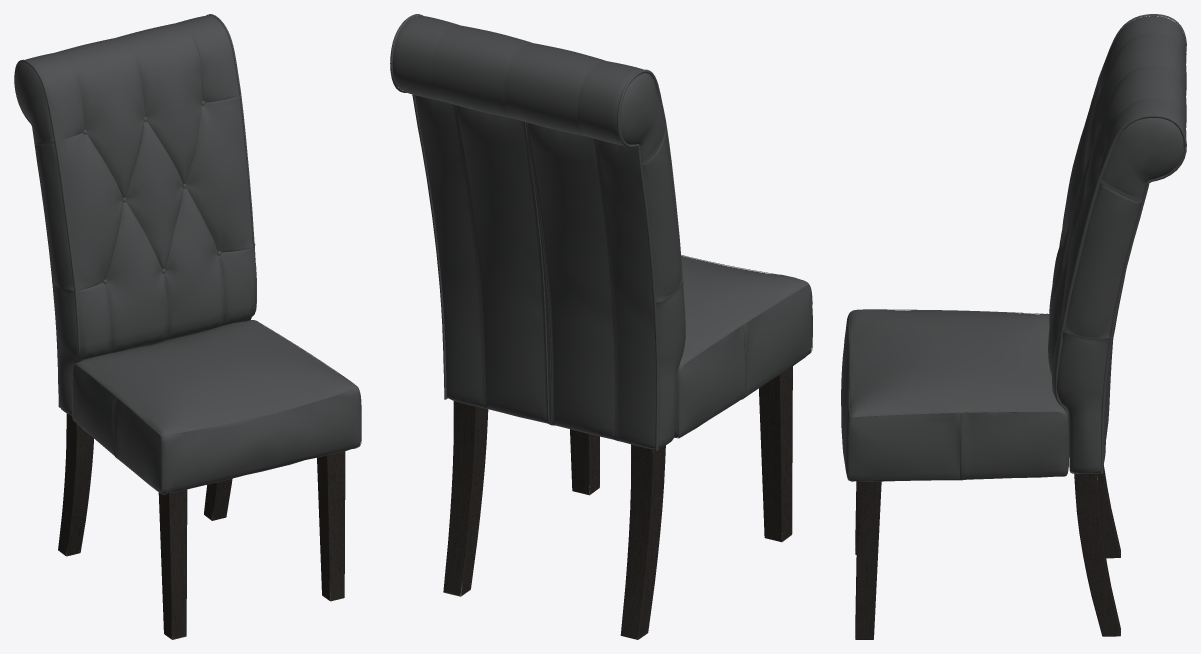
File: graphite.glb
3 renders of one model, left to right at view 1: azimuth 30°, elevation 25°; view 2: azimuth 150°, elevation 25°; view 3: azimuth 270°, elevation 25°, orthographic. The views are drawn at different scales.
Visible parts, largest first — view 1: krosna; view 2: krosna; view 3: krosna.
Part boxes in pixels (left/top/right/bottom): krosna: left=14, top=14, right=361, bottom=639; krosna: left=390, top=14, right=812, bottom=639; krosna: left=841, top=14, right=1186, bottom=639.
Bounding box in the file's own units: 0.4336 × 0.9734 × 0.5764.
Materials: 2 (1 with a texture image).
